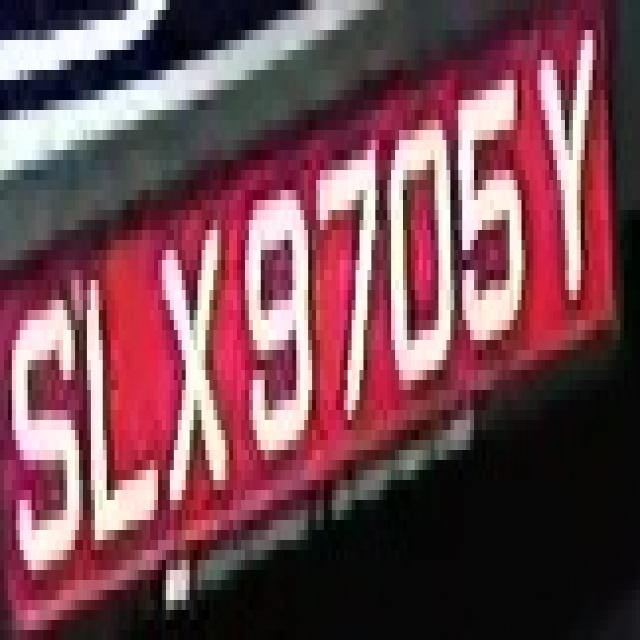0: (372, 100, 458, 390)
5: (451, 60, 522, 360)
7: (300, 110, 391, 470)
9: (233, 150, 324, 490)
L: (71, 260, 170, 570)
S: (0, 260, 91, 580)
X: (142, 230, 237, 540)
Y: (530, 20, 608, 320)
